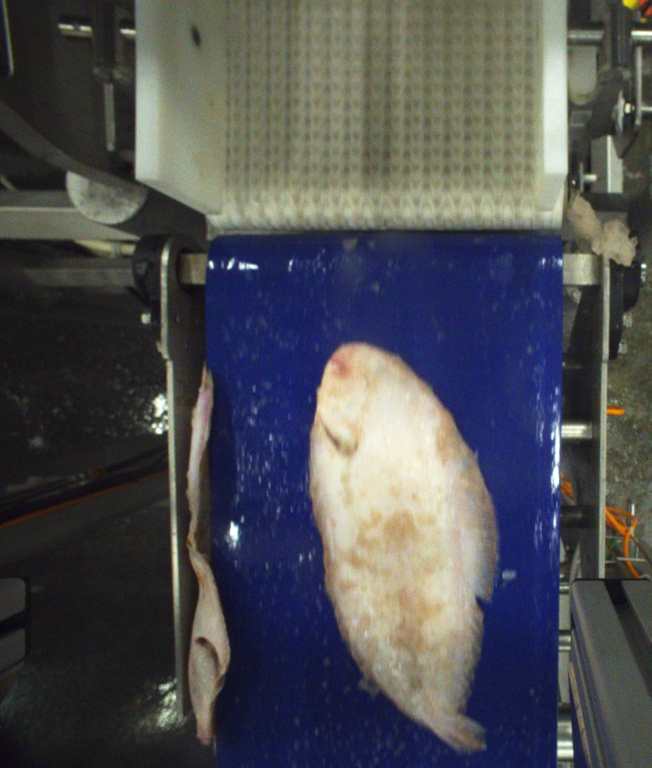SOL: (307, 340, 495, 753)
